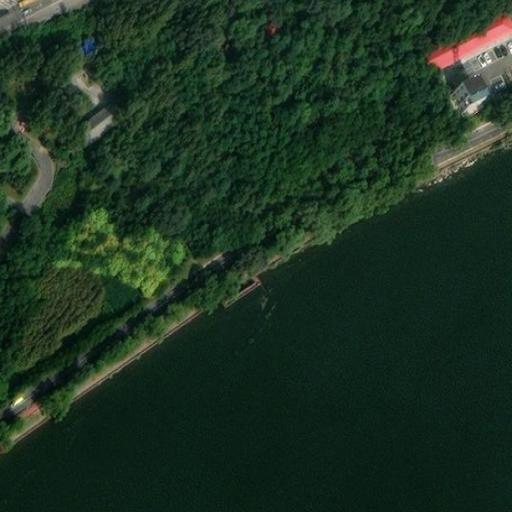building: (422, 6, 512, 67), (74, 97, 123, 140), (448, 78, 477, 109), (74, 30, 102, 57)
